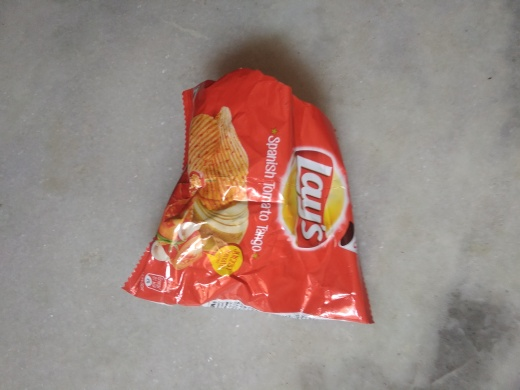lays: (130, 66, 382, 329)
